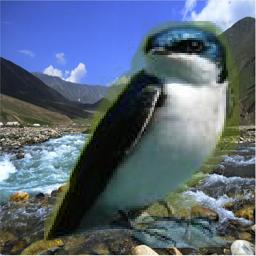Swallow: (45, 22, 240, 249)
